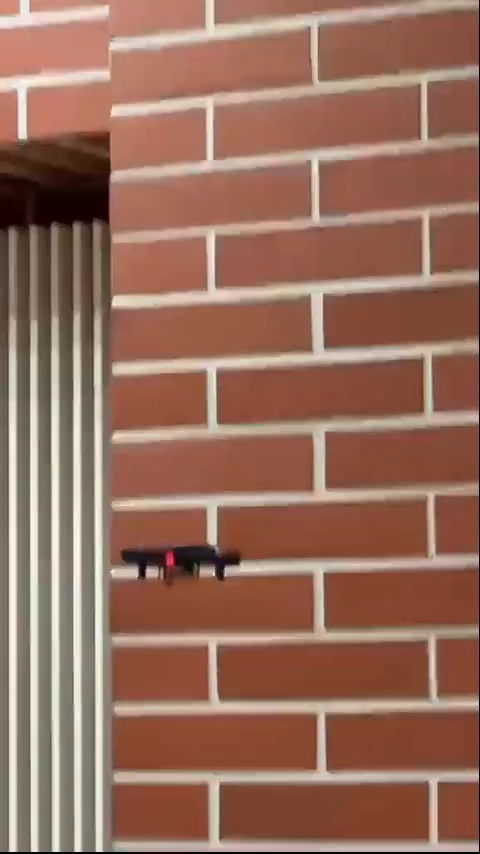drone: (117, 545, 246, 586)
